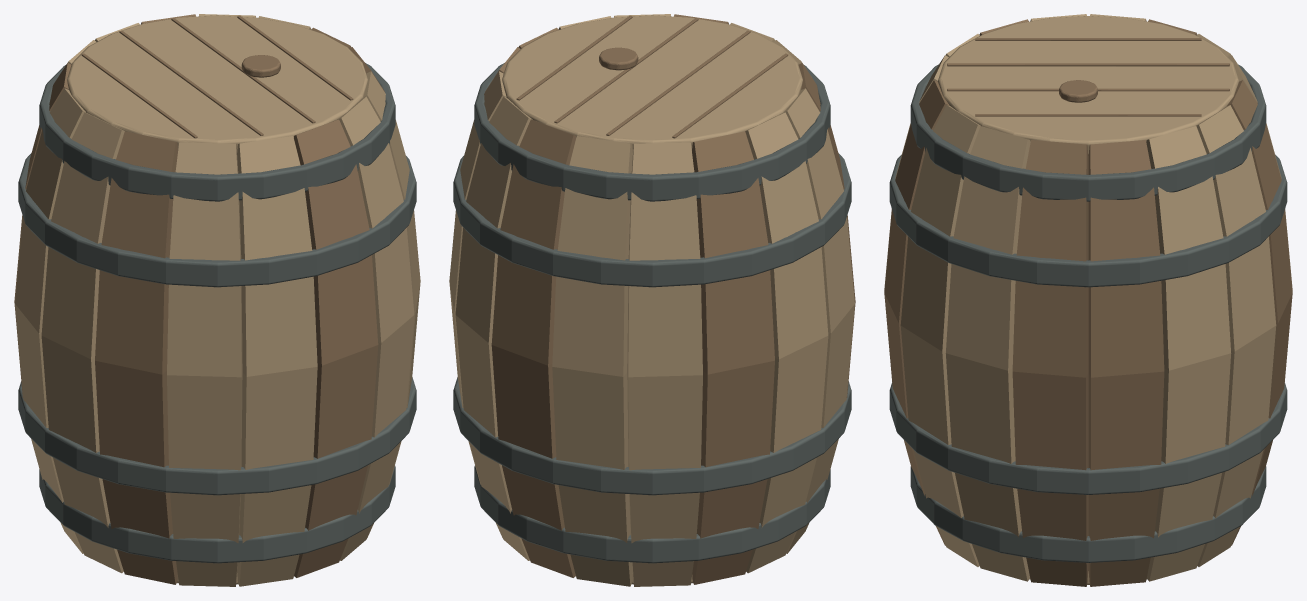
File: SM_Barrel.fbx
The picture shows the model from 3 angles, left to right: view 1: azimuth 30°, elevation 25°; view 2: azimuth 150°, elevation 25°; view 3: azimuth 270°, elevation 25°; orthographic projection.
Visible parts, largest first — view 1: SM_Barrel; view 2: SM_Barrel; view 3: SM_Barrel.
Part boxes in pixels (left/top/right/bottom): SM_Barrel: left=14, top=14, right=420, bottom=586; SM_Barrel: left=449, top=14, right=855, bottom=586; SM_Barrel: left=884, top=14, right=1292, bottom=586.
Bounding box in the file's own units: 81.99 × 81.99 × 101.
